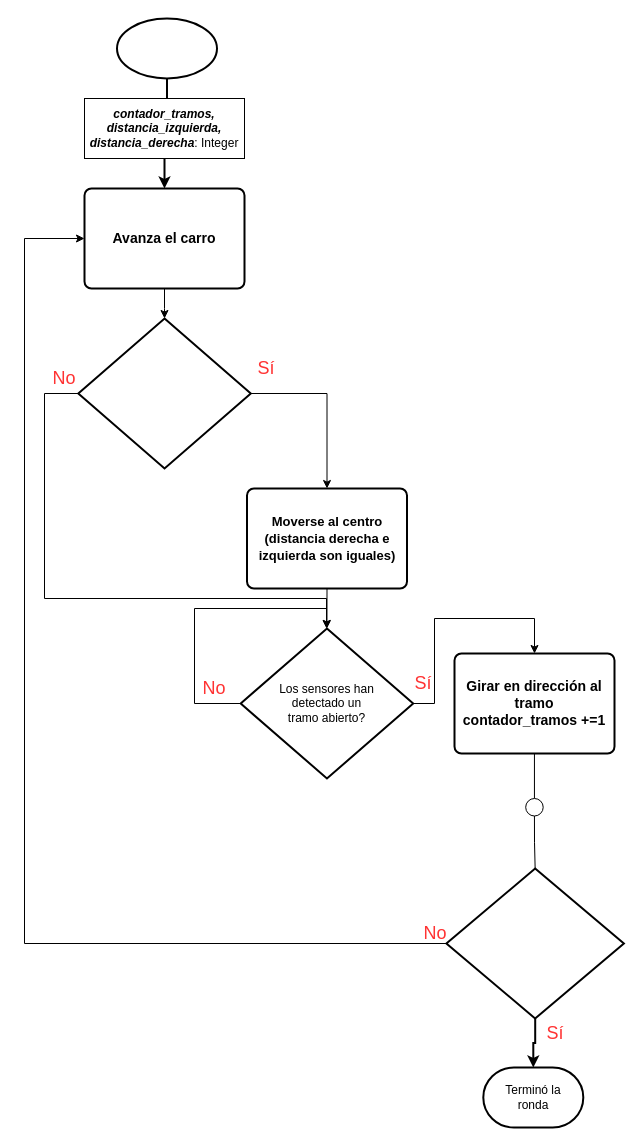
Image size: 642x1145. Some labels were removed from this diagram. Each missing label, with the box of its shape:
contador_tramos es igual a 12?: (445, 867, 624, 1019)
INICIO: (116, 17, 218, 79)
¿La diferencia entre distancia_izquierda y distancia_derecha es mayor a 36?: (77, 317, 251, 469)
